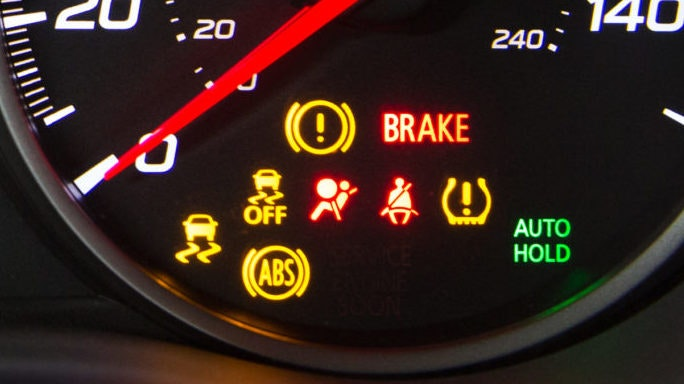ABS: (239, 244, 317, 299)
